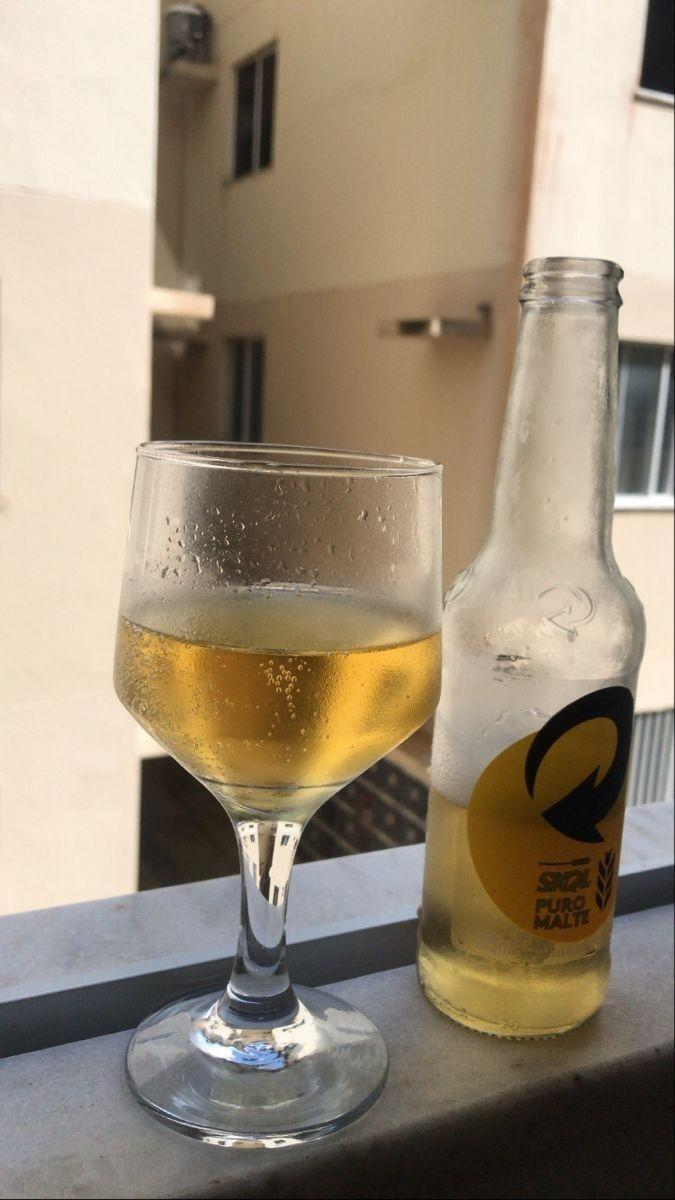bottle-glass: (404, 254, 656, 1035)
glass-wine: (107, 441, 447, 1143)
